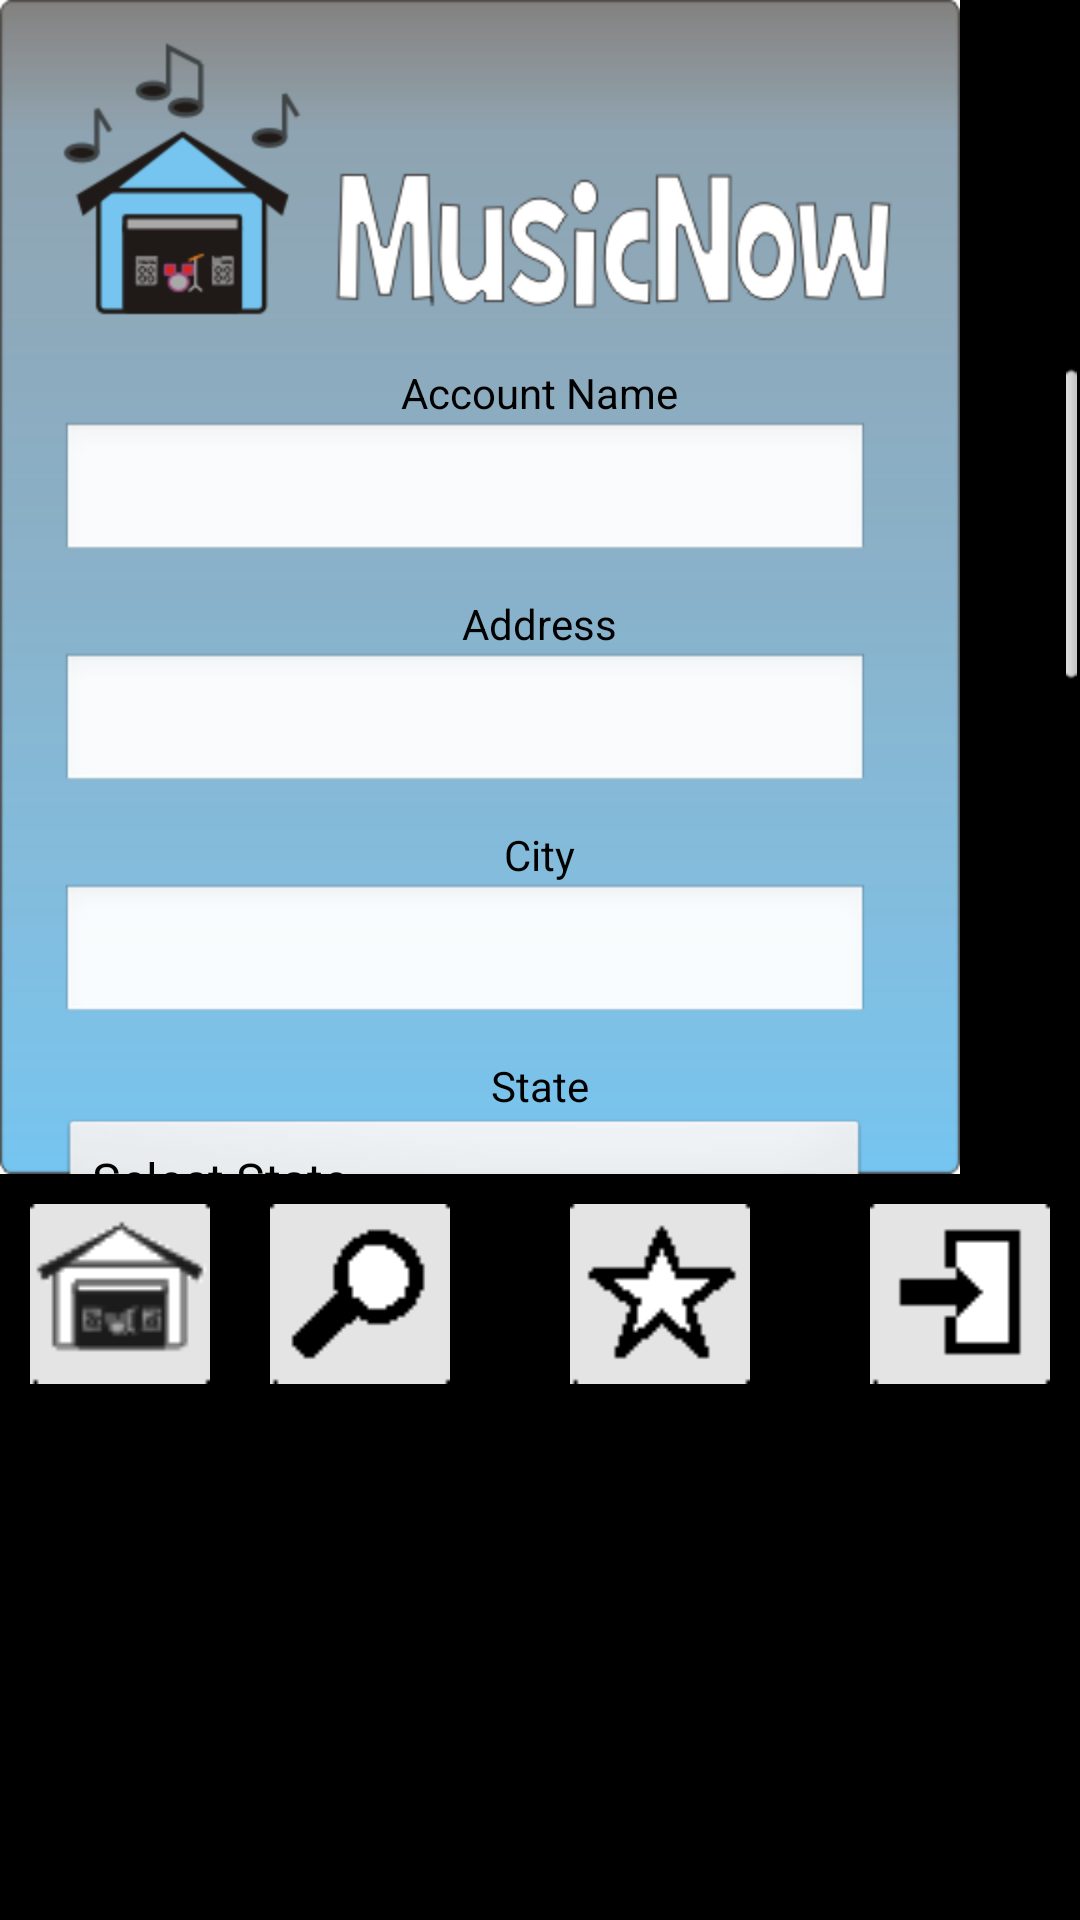

Icon click points for this 1080 x 1920 phone screenshot, format (x=x, y=y):
Favorites: (x=660, y=1294)
garage: (x=120, y=1294)
Login: (x=960, y=1294)
Search Button: (x=360, y=1294)
